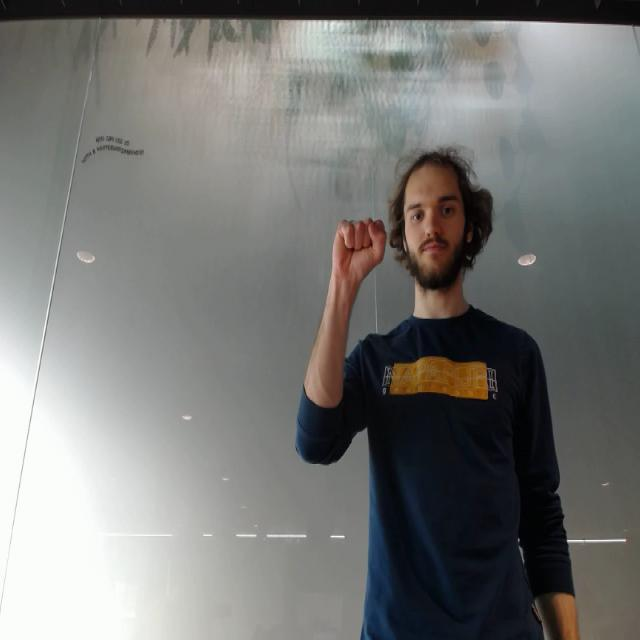stop: (329, 212, 390, 290)
